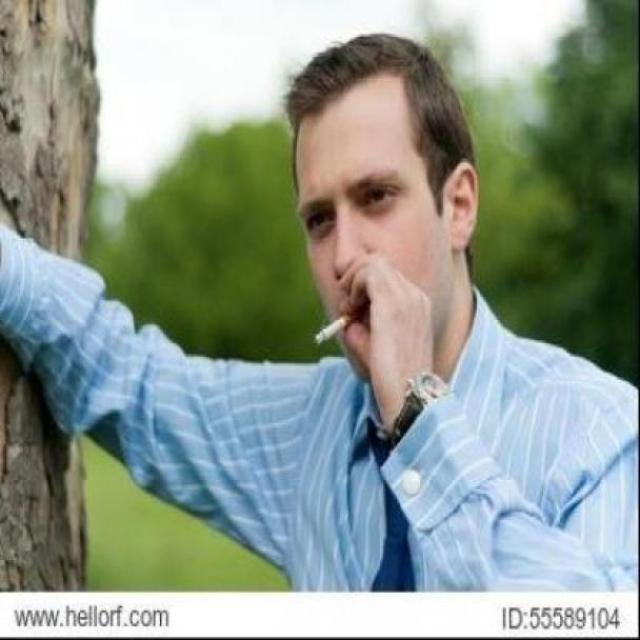rokok: (312, 309, 354, 345)
